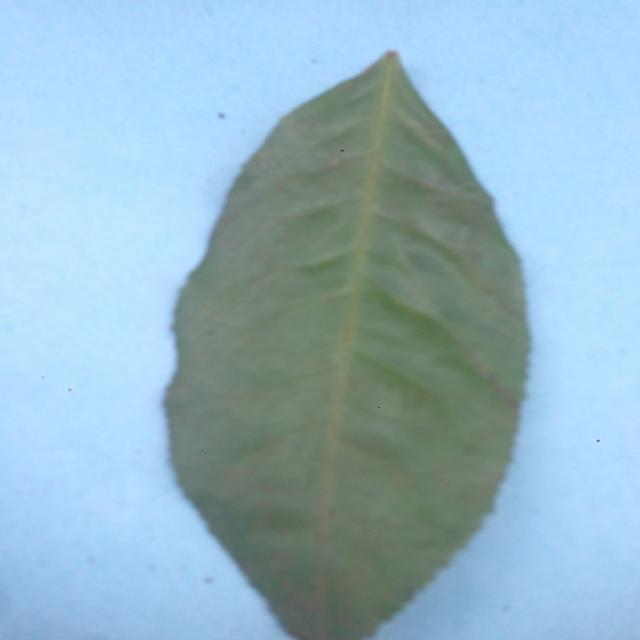Healthy: (137, 28, 569, 640)
